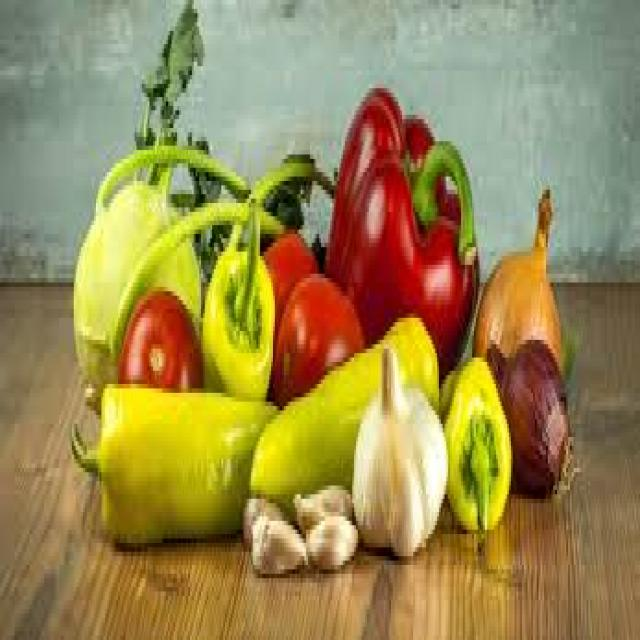organic waste: (72, 132, 337, 415), (323, 84, 476, 375), (247, 309, 437, 508), (70, 137, 201, 415), (70, 375, 280, 539), (351, 344, 446, 556), (472, 185, 561, 362), (437, 348, 509, 560), (485, 335, 572, 499), (201, 198, 275, 388), (270, 270, 364, 410), (131, 0, 203, 181), (116, 287, 201, 384), (260, 225, 319, 353), (304, 508, 358, 574), (249, 512, 302, 578), (290, 477, 348, 525), (242, 494, 282, 548)
